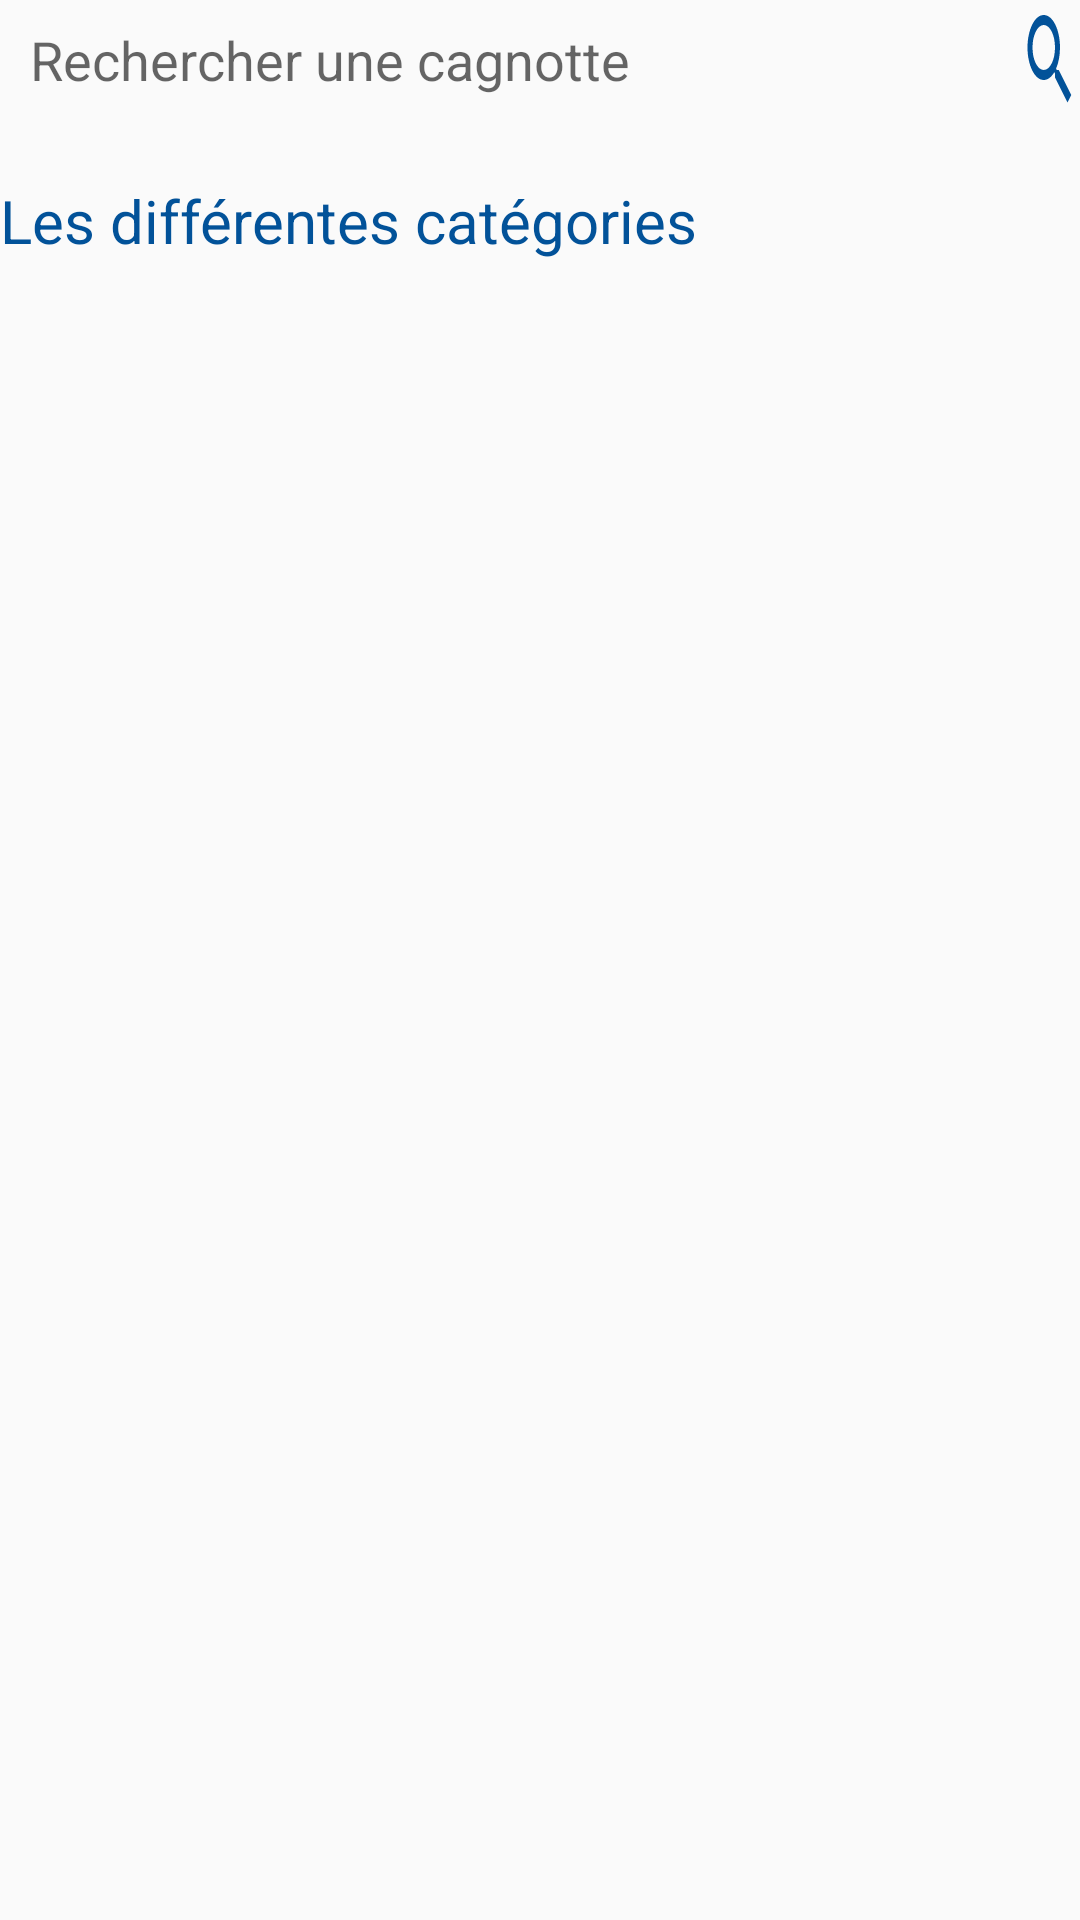

Locate icon controls on the screen. Image size 1080px x 1920px, boxes as (x1, y1, x2, y2).
search: (1027, 15, 1071, 103)
